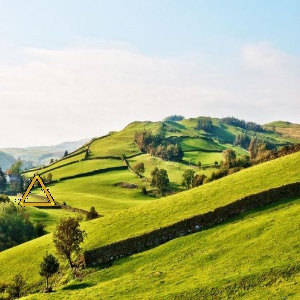triangle: (16, 172, 58, 208)
